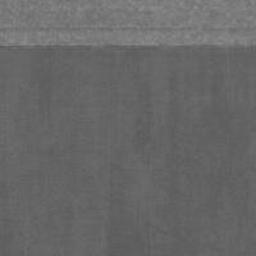Welding line: (0, 44, 256, 52)
